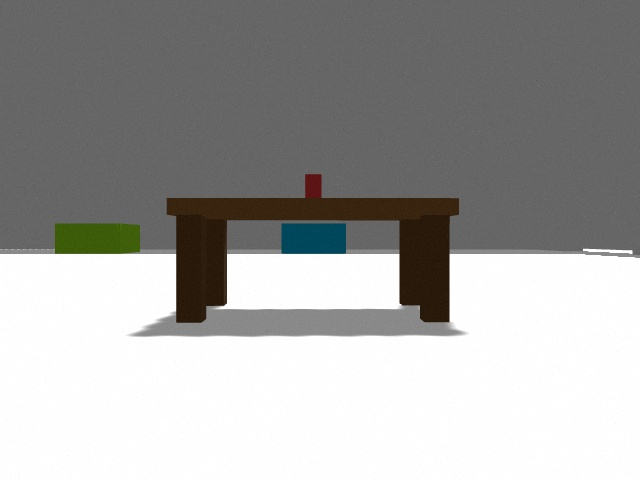blue_drop_zone: (281, 223, 346, 254)
green_drop_zone: (55, 223, 140, 254)
